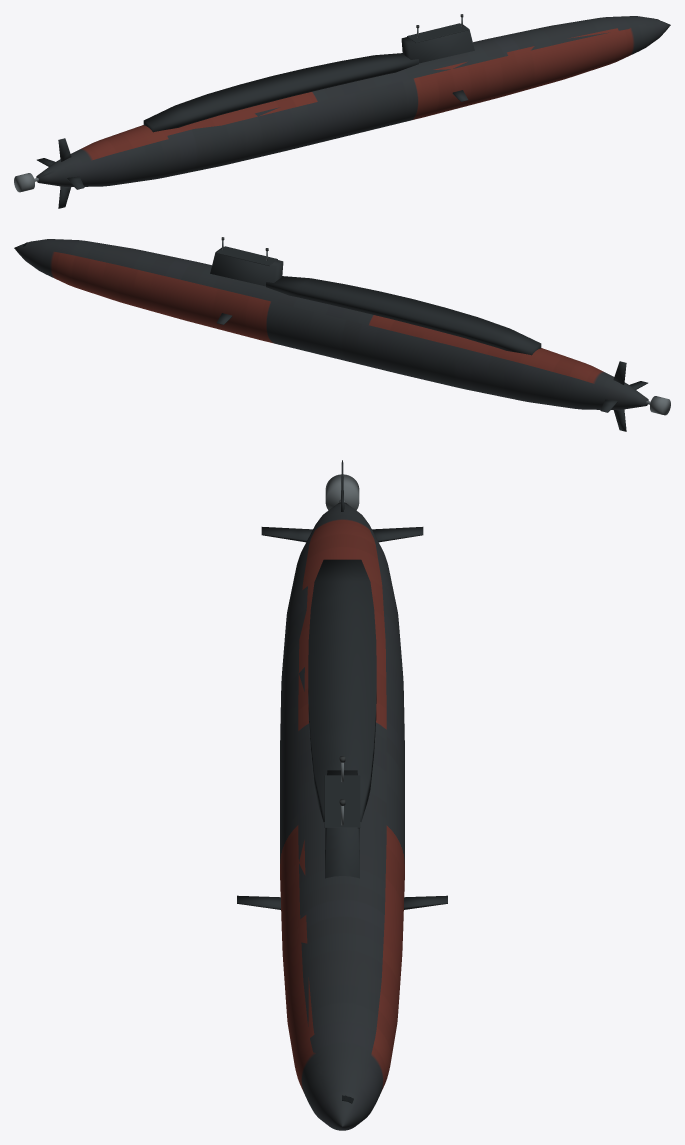
Rendered from UK_SSBN_Vanguard_LOD1.fbx.
The picture shows the model from 3 angles, top to bottom: view 1: azimuth 30°, elevation 25°; view 2: azimuth 150°, elevation 25°; view 3: azimuth 270°, elevation 25°; orthographic projection. The views are drawn at different scales.
Visible parts, largest first — view 1: UK_SSBN_Vanguard_LOD1; view 2: UK_SSBN_Vanguard_LOD1; view 3: UK_SSBN_Vanguard_LOD1.
Part boxes in pixels (bbox=[...]): UK_SSBN_Vanguard_LOD1: bbox=[14, 14, 670, 208]; UK_SSBN_Vanguard_LOD1: bbox=[14, 237, 670, 431]; UK_SSBN_Vanguard_LOD1: bbox=[237, 460, 447, 1130].
Bounding box in the file's own units: 155 × 21.61 × 21.64.
6 materials, 1 textured.
